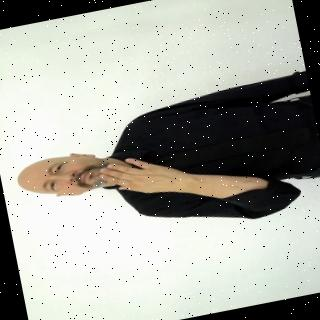ThankYou: (2, 68, 320, 262)
